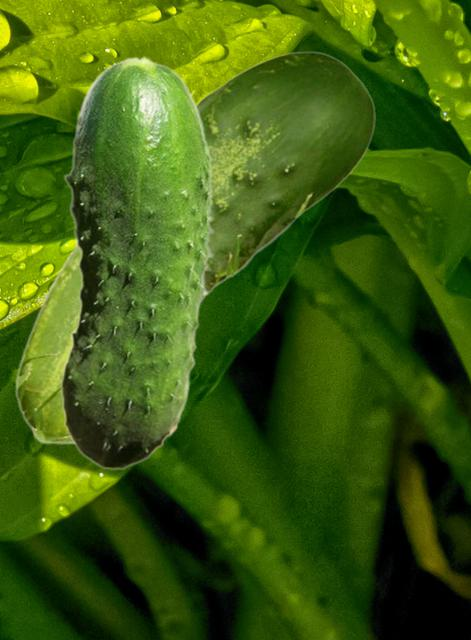cucumber: (14, 51, 374, 446), (60, 55, 214, 469)
